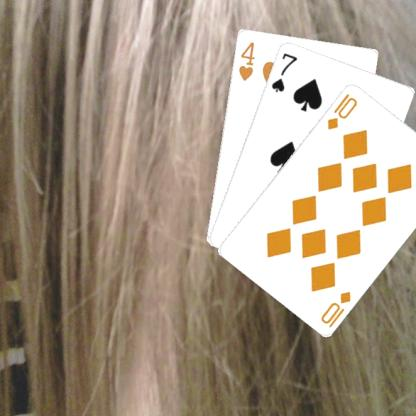10D: (324, 90, 359, 131), (318, 288, 353, 329)
4H: (235, 39, 256, 82)
7S: (268, 49, 298, 93)
